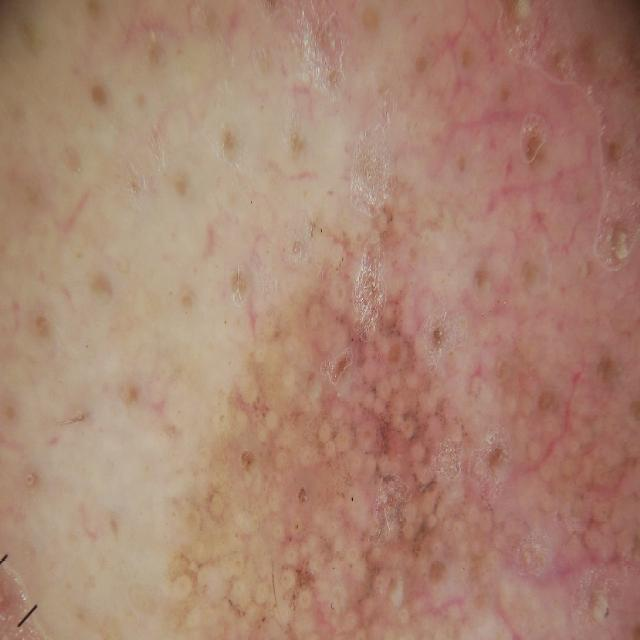Melanoma: (141, 223, 542, 640)
